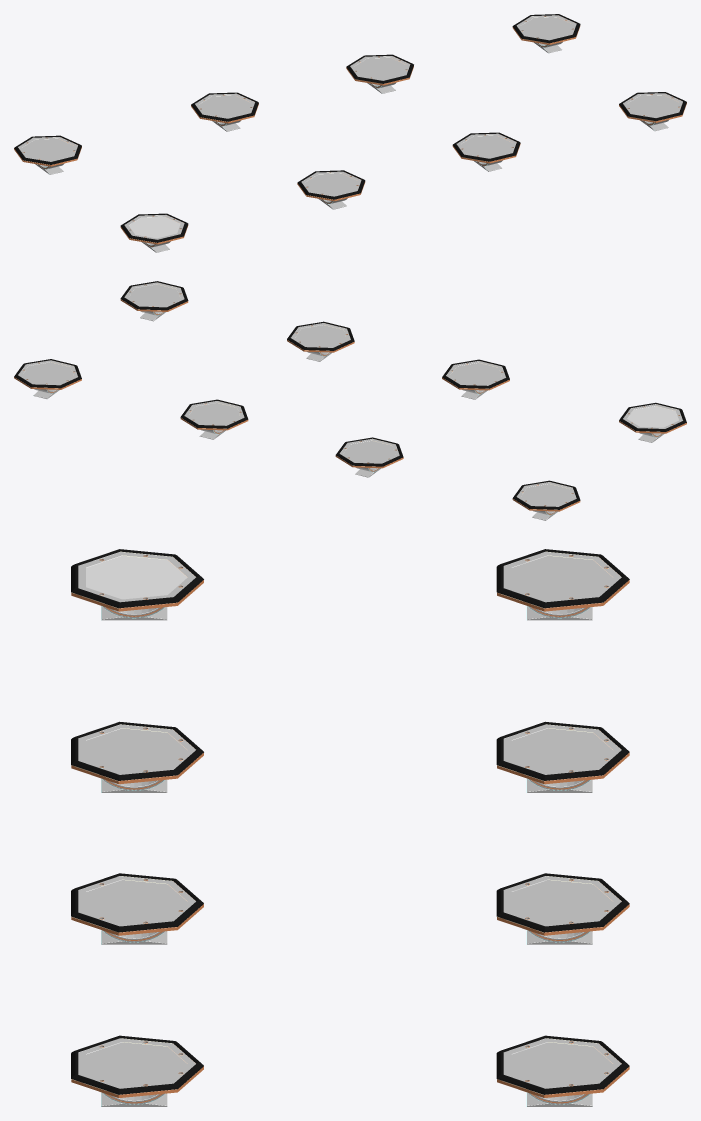
File: Mesas_Poker_Piso_1_Theta.glb
3 renders of one model, top to bottom at view 1: azimuth 30°, elevation 25°; view 2: azimuth 150°, elevation 25°; view 3: azimuth 270°, elevation 25°, orthographic. The views are drawn at different scales.
Visible parts, largest first — view 1: EDi29, EDi46, EDi26, EDi17, EDi38, EDi41, EDi22, EDi33, EDi47, EDi32, EDi27, EDi39 (+4 smaller); view 2: EDi22, EDi38, EDi17, EDi29, EDi33, EDi26, EDi41, EDi46, EDi00, EDi23, EDi27, EDi39 (+4 smaller); view 3: EDi22, EDi29, EDi26, EDi17, EDi41, EDi38, EDi33, EDi46, EDi28, EDi23, EDi32, EDi39 (+4 smaller).
Part boxes in pixels (box(x1,y1,x2,y2)): EDi29: box(521, 17, 572, 38); EDi46: box(627, 95, 678, 116); EDi26: box(199, 95, 250, 117); EDi17: box(22, 139, 73, 160); EDi38: box(128, 216, 180, 238); EDi41: box(306, 173, 357, 195); EDi22: box(354, 58, 405, 79); EDi33: box(461, 135, 512, 157); EDi47: box(619, 92, 686, 121); EDi32: box(453, 132, 520, 161); EDi27: box(191, 92, 258, 121); EDi39: box(120, 213, 188, 242); EDi22: box(188, 403, 240, 424); EDi38: box(627, 406, 678, 427); EDi17: box(521, 484, 572, 505); EDi29: box(22, 362, 73, 383); EDi33: box(295, 325, 346, 346); EDi26: box(344, 441, 395, 462); EDi41: box(450, 363, 501, 384); EDi46: box(129, 284, 180, 305); EDi00: box(512, 480, 580, 509); EDi23: box(180, 399, 248, 428); EDi27: box(336, 437, 403, 466); EDi39: box(619, 402, 686, 431); EDi22: box(511, 880, 612, 923); EDi29: box(511, 1042, 612, 1085); EDi26: box(511, 728, 612, 771); EDi17: box(511, 555, 612, 599); EDi41: box(86, 728, 187, 771); EDi38: box(86, 555, 187, 599); EDi33: box(86, 880, 187, 923); EDi46: box(86, 1042, 187, 1085); EDi28: box(496, 1035, 629, 1094); EDi23: box(496, 873, 629, 932); EDi32: box(71, 873, 203, 932); EDi39: box(71, 549, 203, 608).
Size of the model in its own units: 30.05 by 0.9709 by 13.04.
